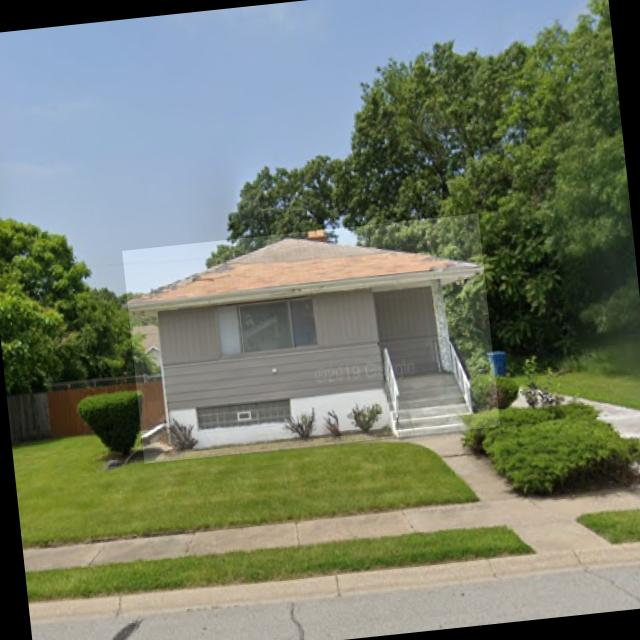House: (122, 213, 500, 463)
